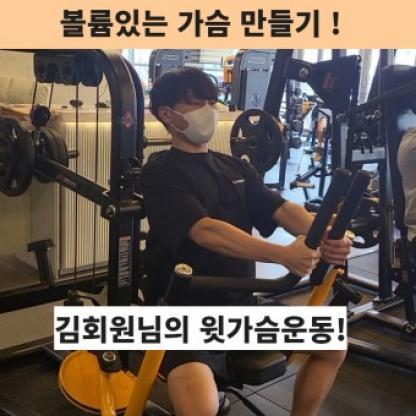chest fly machine: (0, 24, 377, 416)
